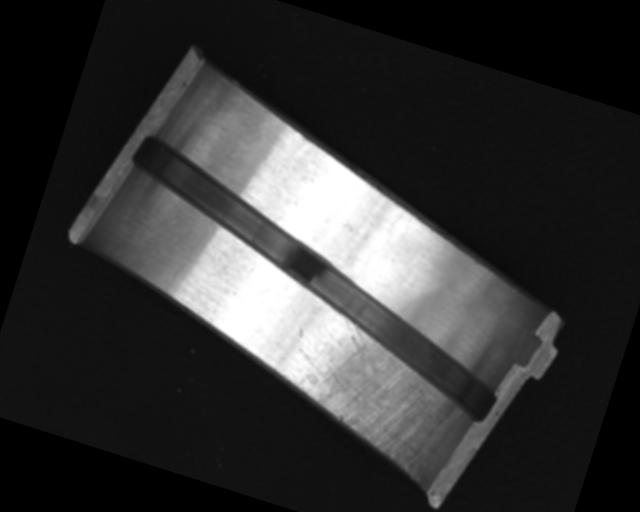gap: (87, 131, 541, 425)
scratch: (274, 305, 470, 481)
